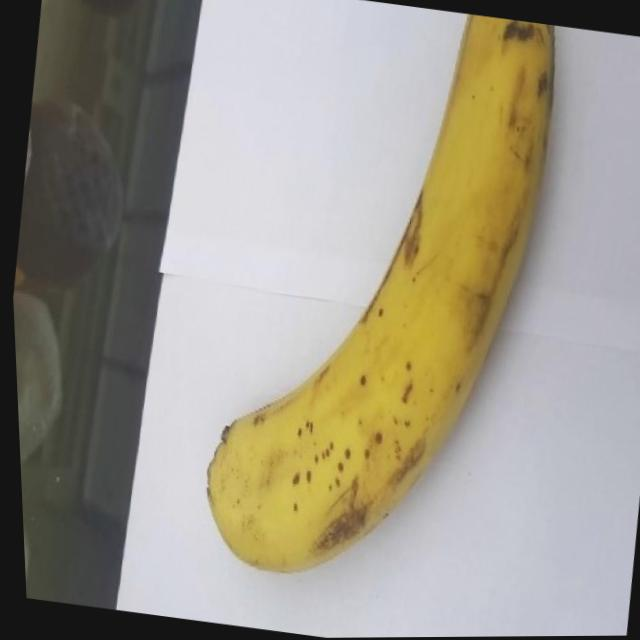Banana: (173, 0, 581, 609)
